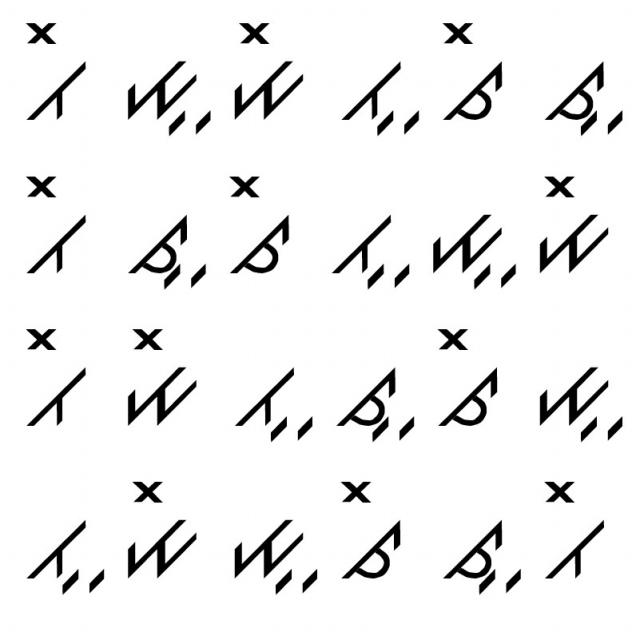bah: (233, 355, 323, 447), (23, 508, 111, 599), (339, 55, 427, 142), (323, 208, 413, 288)
bo: (12, 312, 94, 433), (14, 170, 93, 282), (15, 14, 91, 125), (539, 475, 614, 587)
cah: (439, 510, 524, 605), (539, 57, 625, 136), (339, 360, 418, 443), (128, 213, 210, 288)
co: (332, 476, 416, 583), (431, 325, 510, 438), (220, 168, 300, 279), (433, 18, 511, 123)
mah: (530, 350, 629, 445), (222, 512, 325, 599), (119, 54, 213, 141), (426, 205, 519, 292)
mo: (119, 316, 201, 436), (220, 17, 308, 120), (124, 476, 200, 591), (527, 173, 613, 273)
